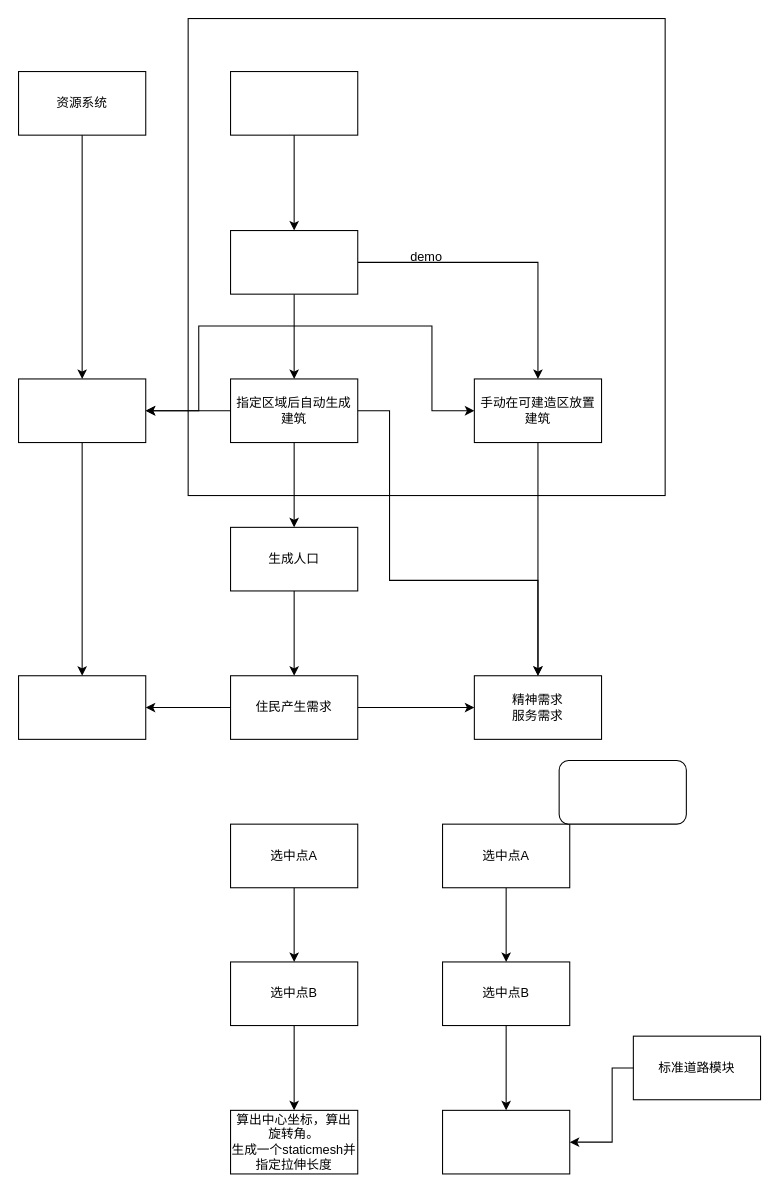
The diagram is 779 pixels wide and 1192 high, and some of its shapes have lost their labels. The centre of each missing label's shape, as x and y in pixels:
划分道路 生成可以建造的区域: the point at 293,261
区块系统: the point at 293,102
平铺标准道路模块: the point at 505,1141
建造资源需求: the point at 81,410
所有道路长度为5的倍数: the point at 622,791
物资需求: the point at 81,707
